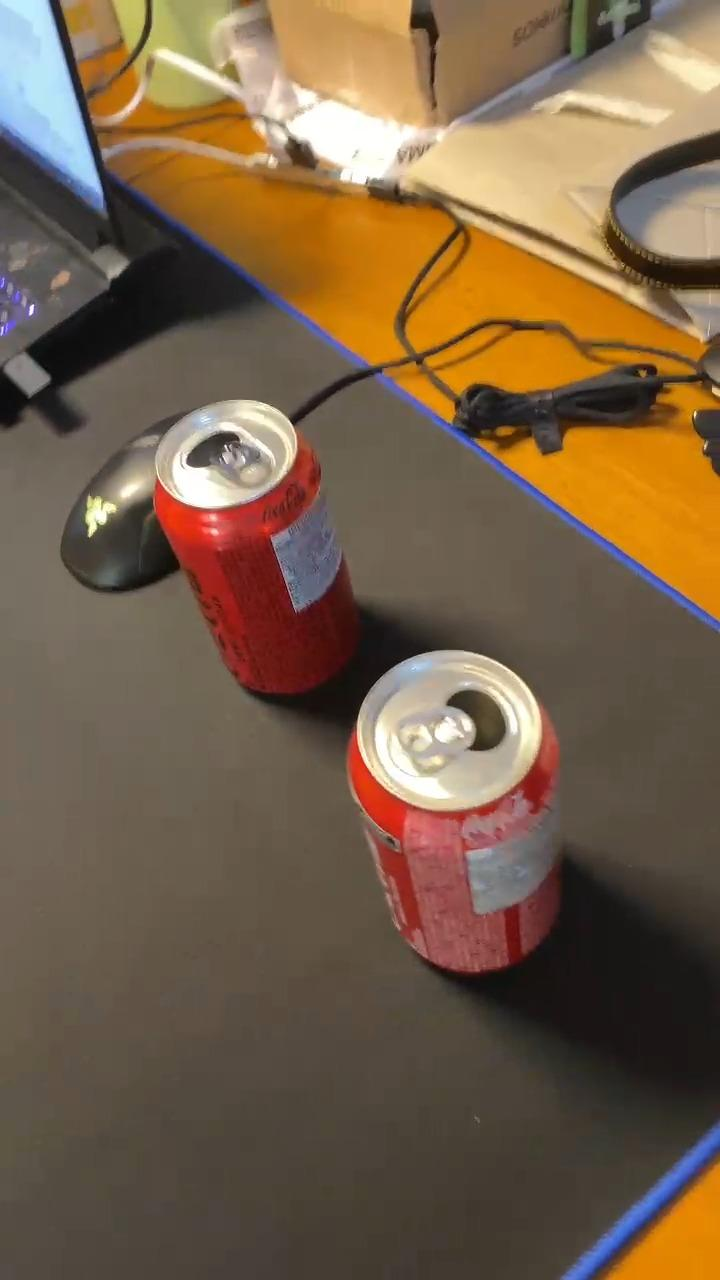coke: (346, 648, 569, 975), (148, 398, 358, 694)
